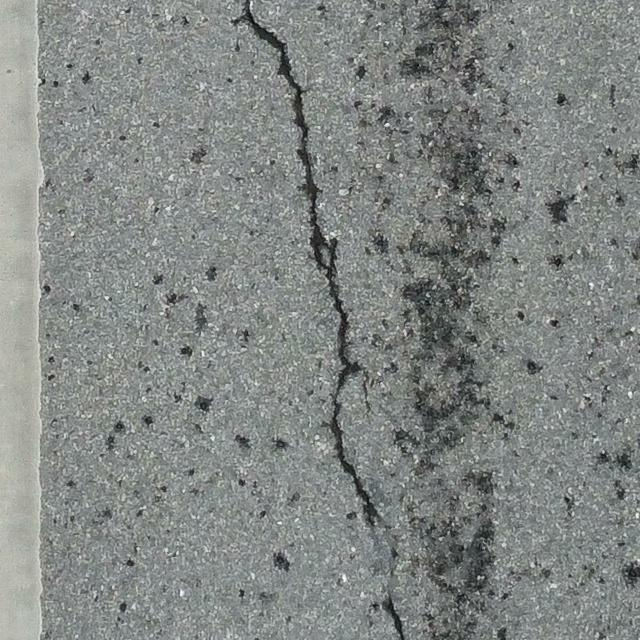LongitudinalCrack: (233, 2, 386, 524)
